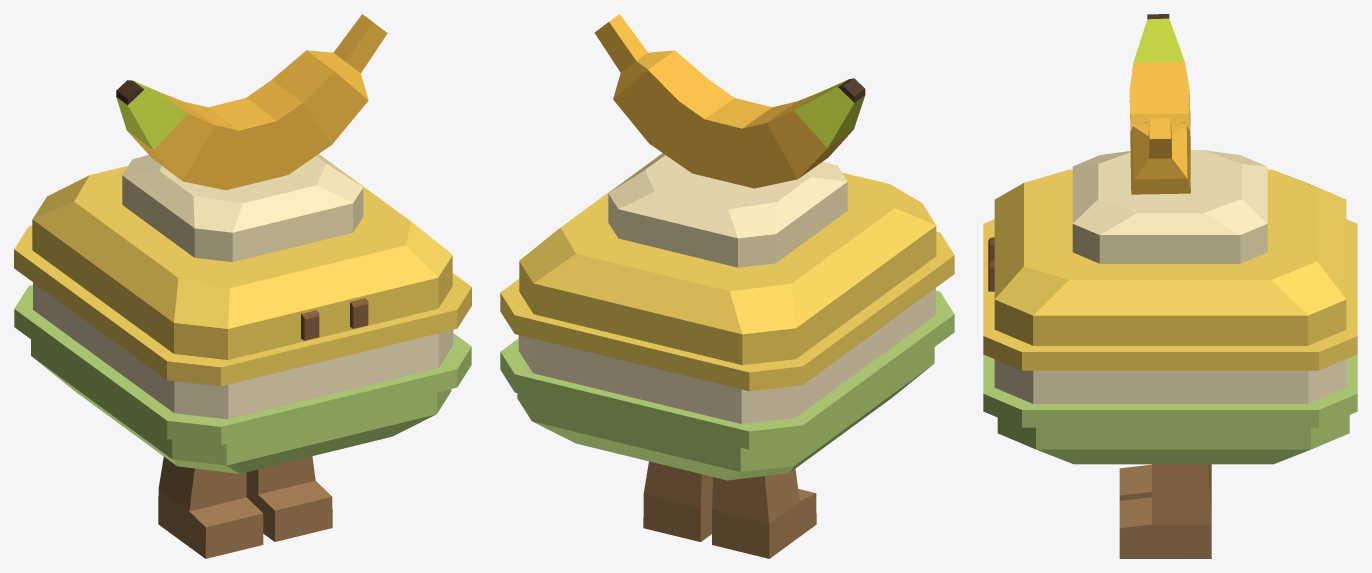
File: st1_3 block.fbx
3 renders of one model, left to right at view 1: azimuth 30°, elevation 25°; view 2: azimuth 150°, elevation 25°; view 3: azimuth 270°, elevation 25°, orthographic. The views are drawn at different scales.
Parts seen in each view (by area): view 1: st1_3_block_head, st1_3_block_down, st1_3_block_head_ad, st1_3_block_middle, st1_3_block_L_banana, st1_3_block_R_banana_, st1_block2_L_leg, st1_block2_R_leg; view 2: st1_3_block_head, st1_3_block_down, st1_3_block_head_ad, st1_3_block_middle, st1_3_block_L_banana, st1_3_block_R_banana_, st1_block2_L_leg, st1_block2_R_leg; view 3: st1_3_block_head, st1_3_block_down, st1_3_block_head_ad, st1_3_block_middle, st1_block2_R_leg, st1_3_block_R_banana_, st1_3_block_L_banana, st1_block2_L_leg.
Boxes of the visible parts, left/top/right/bottom form: st1_3_block_head: left=14, top=154, right=471, bottom=386; st1_3_block_down: left=14, top=285, right=471, bottom=473; st1_3_block_head_ad: left=122, top=154, right=363, bottom=261; st1_3_block_middle: left=33, top=282, right=453, bottom=419; st1_3_block_L_banana: left=228, top=14, right=387, bottom=182; st1_3_block_R_banana_: left=116, top=80, right=258, bottom=190; st1_block2_L_leg: left=158, top=456, right=263, bottom=558; st1_block2_R_leg: left=246, top=456, right=332, bottom=541; st1_3_block_head: left=500, top=153, right=954, bottom=391; st1_3_block_down: left=500, top=290, right=954, bottom=480; st1_3_block_head_ad: left=608, top=153, right=847, bottom=267; st1_3_block_middle: left=518, top=288, right=935, bottom=423; st1_3_block_L_banana: left=594, top=14, right=752, bottom=180; st1_3_block_R_banana_: left=723, top=78, right=865, bottom=188; st1_block2_L_leg: left=712, top=468, right=816, bottom=558; st1_block2_R_leg: left=643, top=461, right=712, bottom=541; st1_3_block_head: left=983, top=169, right=1357, bottom=370; st1_3_block_down: left=983, top=354, right=1357, bottom=464; st1_3_block_head_ad: left=1072, top=150, right=1267, bottom=263; st1_3_block_middle: left=994, top=359, right=1346, bottom=403; st1_block2_R_leg: left=1119, top=464, right=1211, bottom=558; st1_3_block_R_banana_: left=1129, top=14, right=1190, bottom=161; st1_3_block_L_banana: left=1130, top=118, right=1190, bottom=194; st1_block2_L_leg: left=1119, top=464, right=1211, bottom=500.
Bounding box in the file's own units: 445 × 671 × 487.
Materials: 1 (1 with a texture image).
